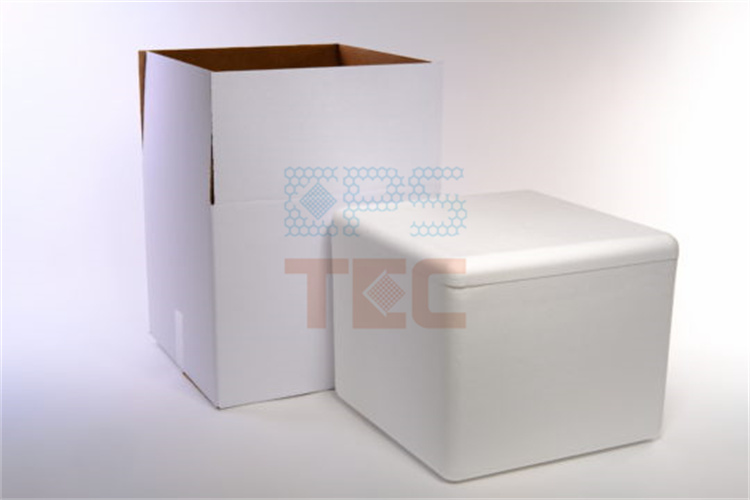泡沫箱: (331, 192, 680, 483)
